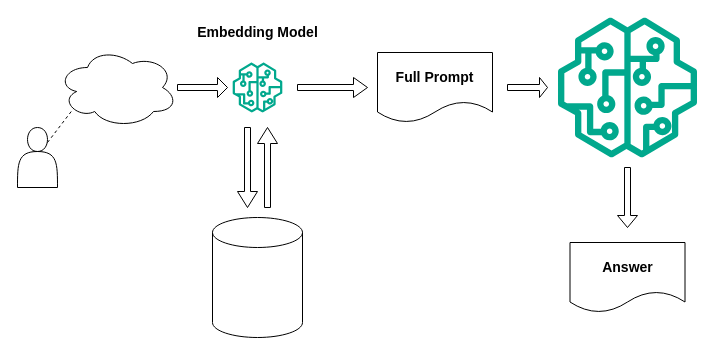
Image size: 715x355. Some labels were removed from this diagram. Here are the shapes that lost their labels. From the top down, the centre of each, then its label:
the point at 117,87: Query
the point at 257,277: Documents Vector Store
